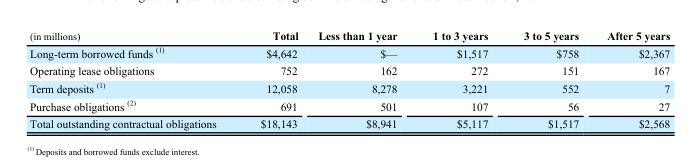table: (29, 28, 669, 129)
table column: (29, 28, 237, 129), (307, 28, 414, 129), (414, 28, 505, 129), (505, 28, 592, 129), (592, 28, 669, 129), (237, 28, 307, 129)
table column header: (29, 28, 669, 43)
table row: (29, 43, 669, 61), (29, 78, 669, 96), (29, 96, 669, 114), (29, 61, 669, 78), (29, 28, 669, 43), (29, 114, 669, 129)
